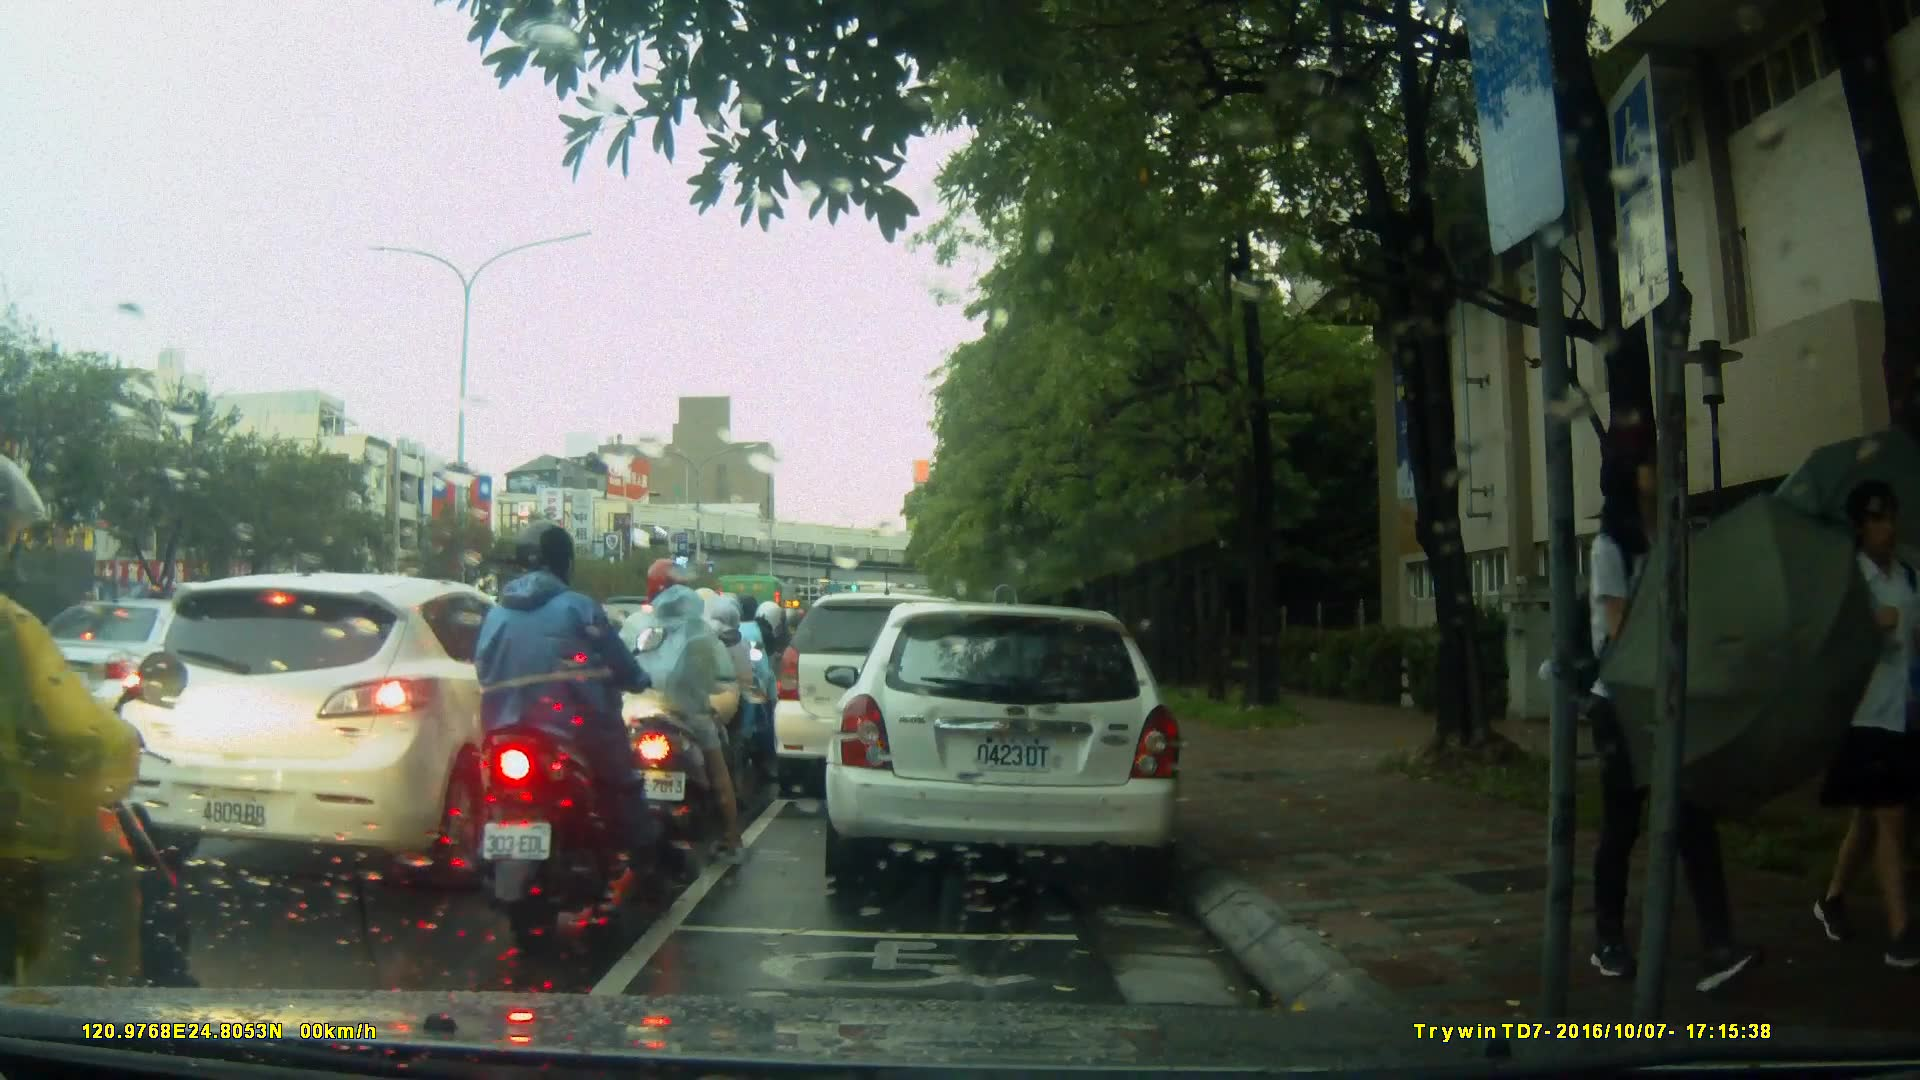pedestrian: (1584, 429, 1746, 992), (1792, 468, 1919, 980)
rider: (1, 456, 201, 1080), (457, 518, 662, 941), (595, 560, 743, 866), (642, 581, 764, 823), (717, 594, 788, 767)
vehicle: (109, 570, 588, 885), (822, 604, 1188, 883), (774, 595, 995, 802), (14, 599, 245, 731)
